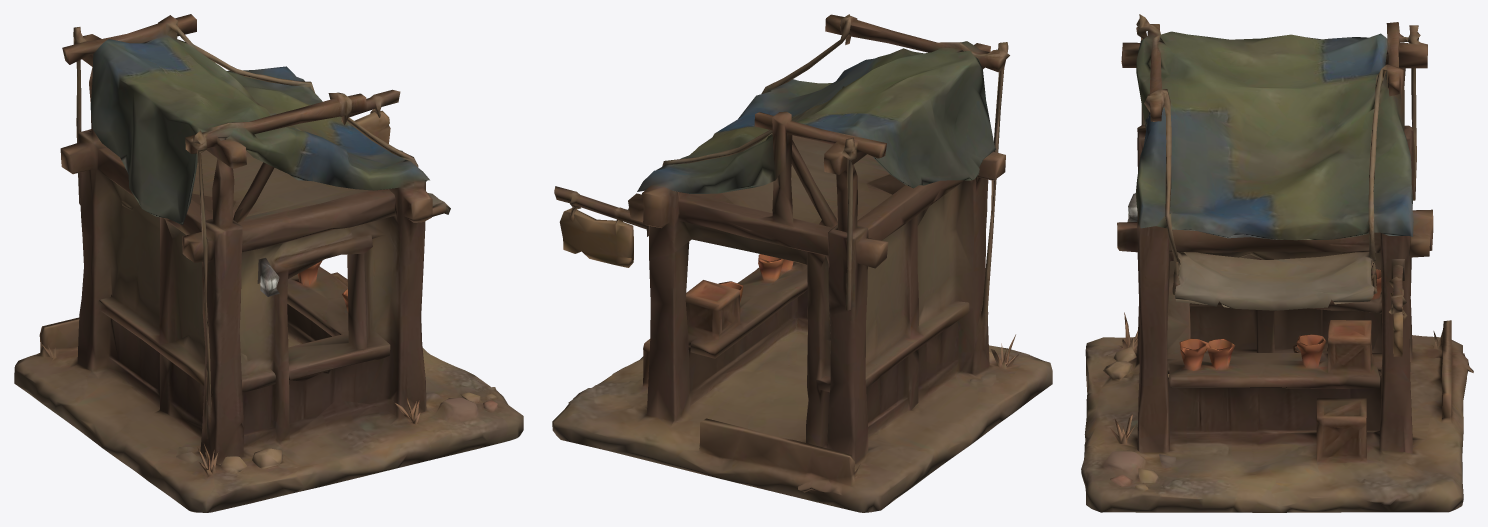
The model's file is journey_stall.glb.
3 renders of one model, left to right at view 1: azimuth 30°, elevation 25°; view 2: azimuth 150°, elevation 25°; view 3: azimuth 270°, elevation 25°, orthographic. The views are drawn at different scales.
Parts seen in each view (by area): view 1: tripo_node_61c10a72-b0fa-4e82-811b-a8beecd21d64; view 2: tripo_node_61c10a72-b0fa-4e82-811b-a8beecd21d64; view 3: tripo_node_61c10a72-b0fa-4e82-811b-a8beecd21d64.
Part boxes in pixels (x1,y1,x2,y2): tripo_node_61c10a72-b0fa-4e82-811b-a8beecd21d64: [14, 14, 523, 512]; tripo_node_61c10a72-b0fa-4e82-811b-a8beecd21d64: [552, 14, 1052, 512]; tripo_node_61c10a72-b0fa-4e82-811b-a8beecd21d64: [1081, 14, 1473, 512].
Bounding box in the file's own units: 1 × 0.9385 × 0.9491.
1 material, 1 textured.
